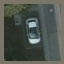car: (25, 19, 41, 45)
